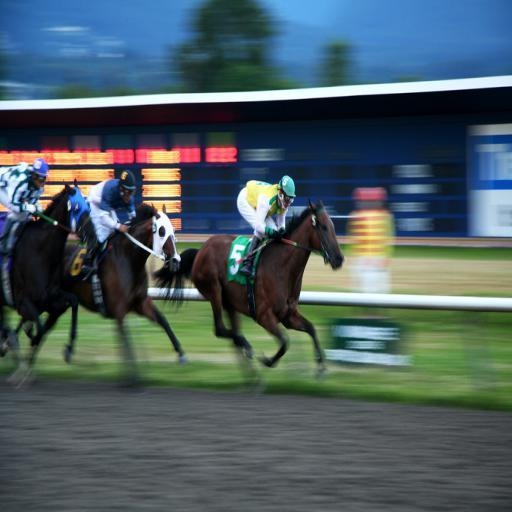horse: (152, 195, 344, 378), (30, 201, 189, 380), (0, 181, 96, 384)
